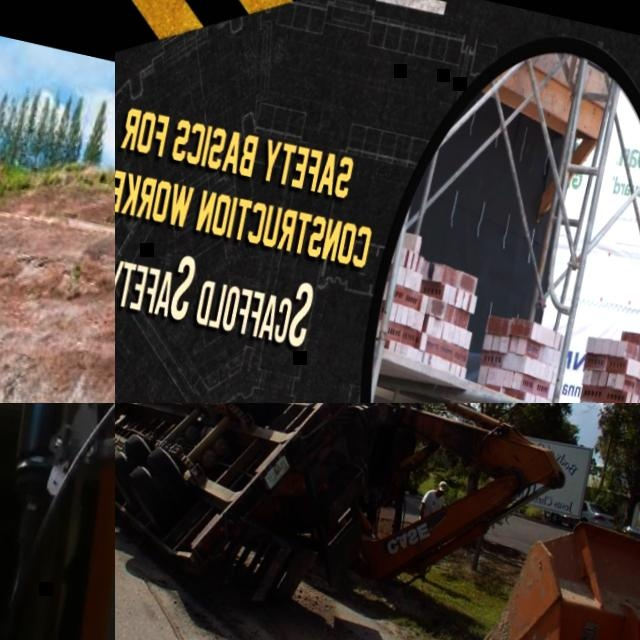NO-Hardhat: (436, 476, 447, 490)
NO-Mask: (432, 491, 440, 497)
NO-Safety Vest: (422, 489, 442, 514)
Person: (403, 474, 449, 580)
machinery: (115, 403, 574, 640), (389, 488, 640, 640)
vehicle: (561, 495, 617, 534)
